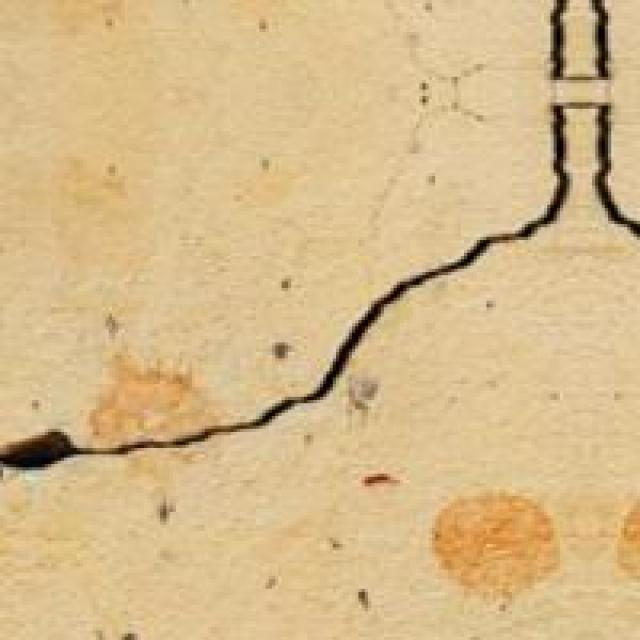crack: (3, 4, 637, 502)
